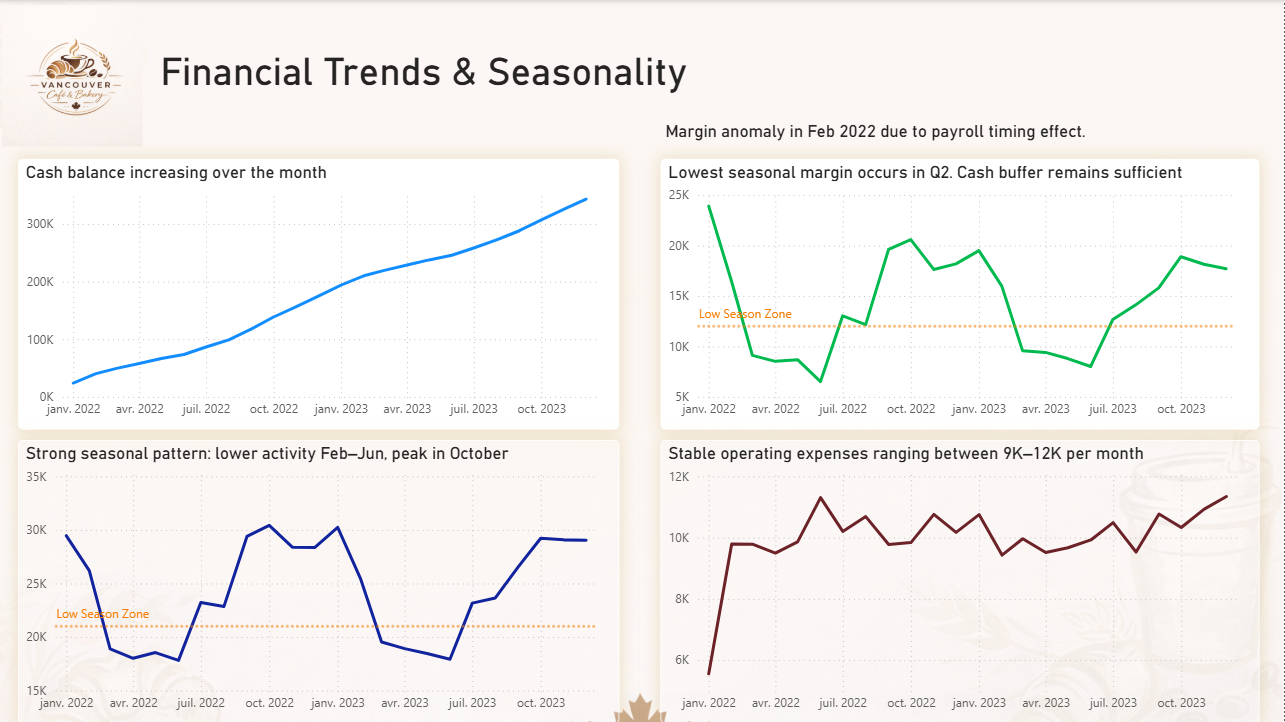

The dashboard page shown, as its layout file describes it:
{"tool":"powerbi","page":{"name":"Trends","canvas":[1280,720],"ordinal":2},"visuals":[{"type":"image","box":[0,0,1280,720.3],"z":0},{"type":"lineChart","title":"Lowest seasonal margin occurs in Q2. Cash buffer remains sufficient","fields":{"Y":["_mesures._Marge_Brut"],"Category":["dim_time.date_yyyy_mm_dd.Variation.Hiérarchie de dates.Année","dim_time.date_yyyy_mm_dd.Variation.Hiérarchie de dates.Mois"]},"box":[659.3,158,595.9,269.9],"z":1000},{"type":"image","box":[0,5,148,140.6],"z":2500},{"type":"lineChart","title":"Cash balance increasing over the month","fields":{"Y":["_mesures._Real_EndMonth_Balance"],"Category":["dim_time.date_yyyy_mm_dd.Variation.Hiérarchie de dates.Année","dim_time.date_yyyy_mm_dd.Variation.Hiérarchie de dates.Mois"]},"box":[19.9,158,598.3,269.9],"z":2750},{"type":"textbox","box":[156.7,43.5,544.9,65.9],"z":3000},{"type":"textbox","box":[659.3,115.7,597.1,29.9],"z":4000},{"type":"lineChart","title":"Stable operating expenses ranging between 9K–12K per month","fields":{"Y":["_mesures._Total_amount_OUT"],"Category":["dim_time.date_yyyy_mm_dd.Variation.Hiérarchie de dates.Année","dim_time.date_yyyy_mm_dd.Variation.Hiérarchie de dates.Mois"]},"box":[659,438,596.2,282.4],"z":4500},{"type":"lineChart","title":"Strong seasonal pattern: lower activity Feb–Jun, peak in October","fields":{"Y":["_mesures._Total_amount_IN"],"Category":["dim_time.date_yyyy_mm_dd.Variation.Hiérarchie de dates.Année","dim_time.date_yyyy_mm_dd.Variation.Hiérarchie de dates.Mois"]},"box":[19.9,437.9,598.3,282.4],"z":5000}]}

Visuals, with their boxes in screenshot pixels (x1, y1, x2, y2), scaled from the page's 1280x720 canvas onto the 1285x722 screenshot:
image: Rect(0, 0, 1284, 721)
"Lowest seasonal margin occurs in Q2. Cash buffer remains sufficient" lineChart: Rect(662, 158, 1260, 429)
image: Rect(0, 5, 149, 146)
"Cash balance increasing over the month" lineChart: Rect(20, 158, 621, 429)
textbox: Rect(157, 44, 704, 110)
textbox: Rect(662, 116, 1261, 146)
"Stable operating expenses ranging between 9K–12K per month" lineChart: Rect(662, 439, 1260, 721)
"Strong seasonal pattern: lower activity Feb–Jun, peak in October" lineChart: Rect(20, 439, 621, 721)
